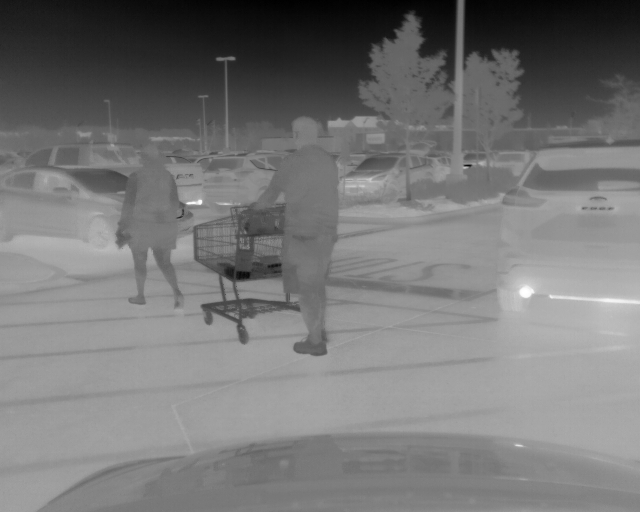car: (494, 138, 640, 322), (2, 165, 195, 247), (20, 141, 202, 205), (341, 150, 443, 203), (202, 150, 290, 206), (495, 147, 535, 179), (461, 149, 492, 169)
people: (262, 116, 340, 357), (117, 146, 190, 309)
